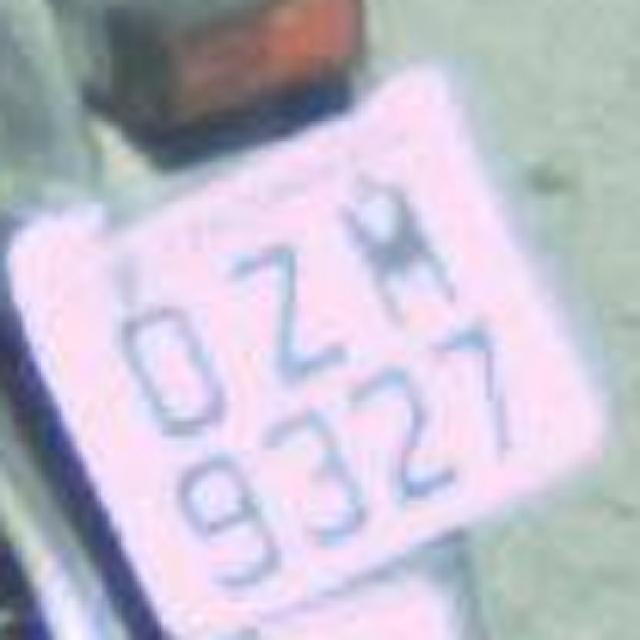0: (236, 364, 396, 571)
2: (336, 340, 484, 515)
3: (252, 360, 396, 560)
7: (411, 295, 544, 480)
9: (160, 420, 305, 612)
O: (100, 269, 255, 456)
Z: (204, 220, 351, 375)
